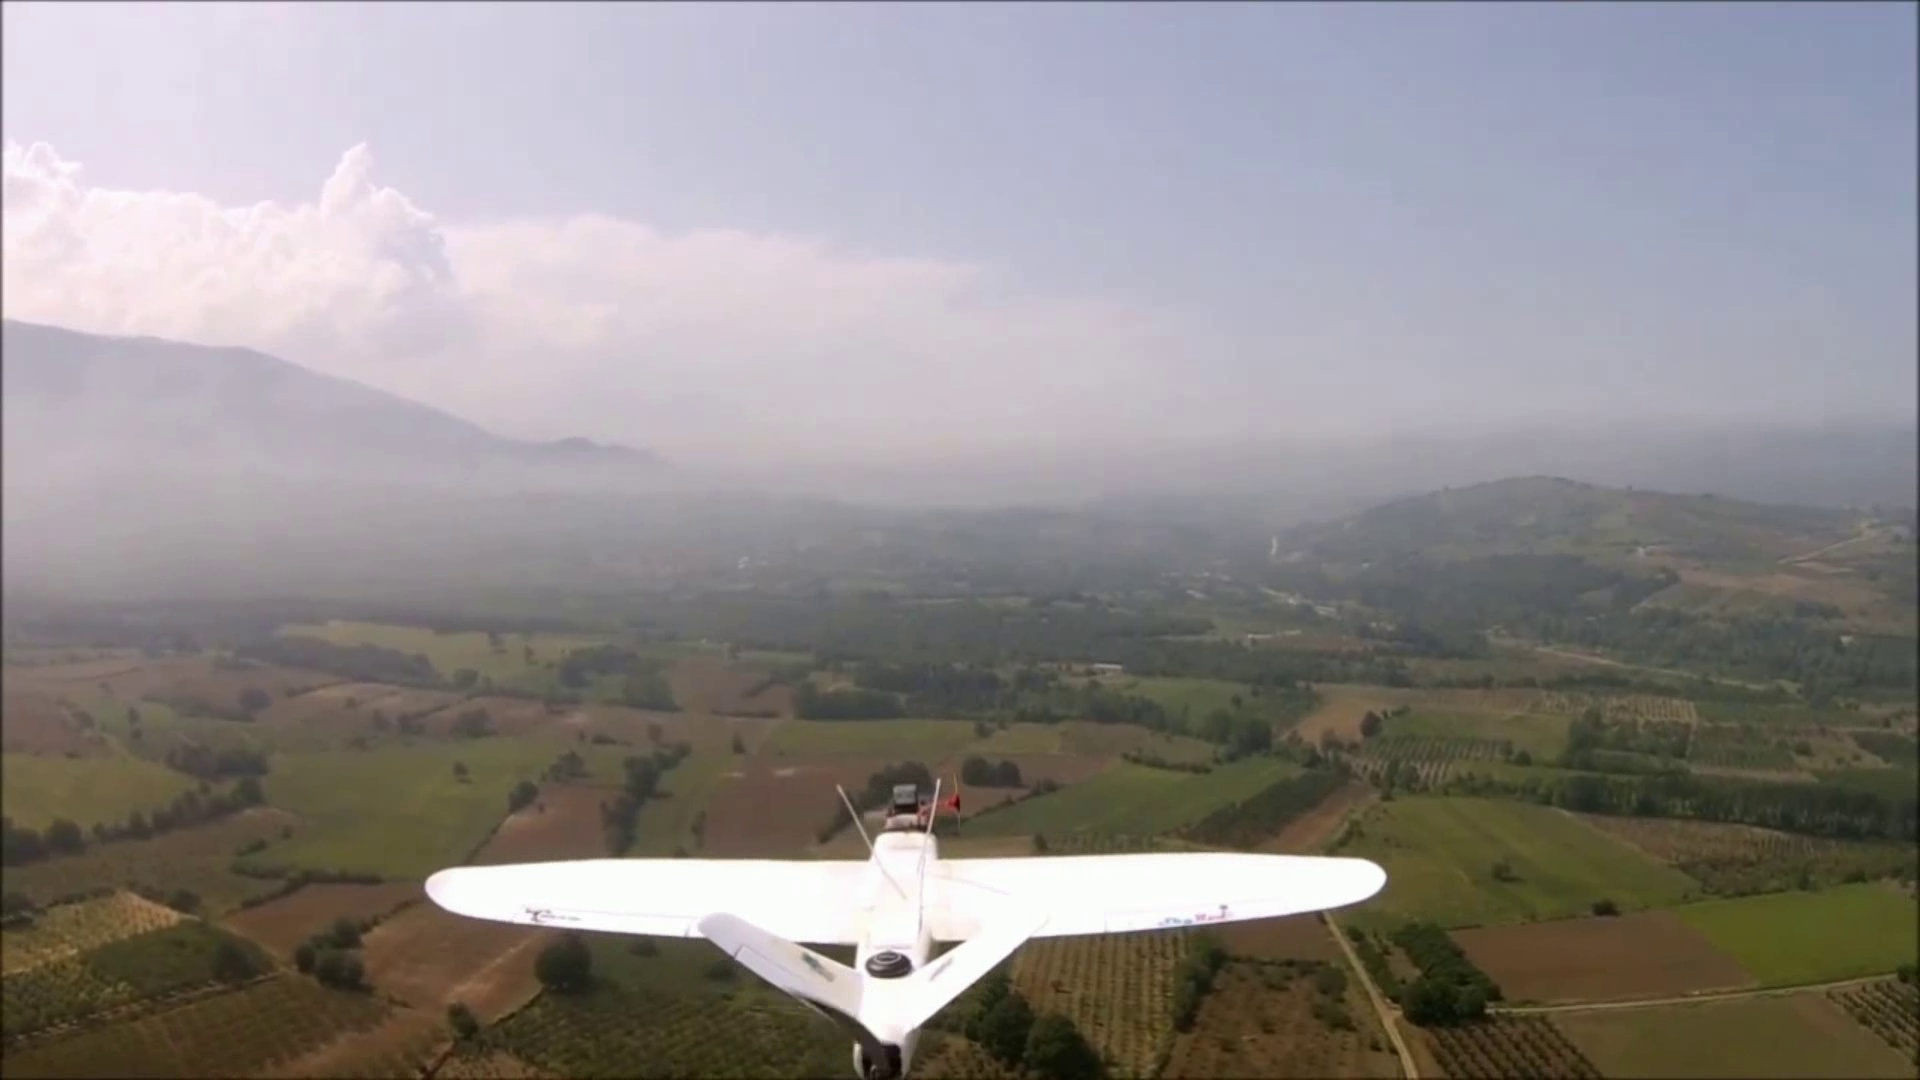airplane: (422, 762, 1389, 1072)
